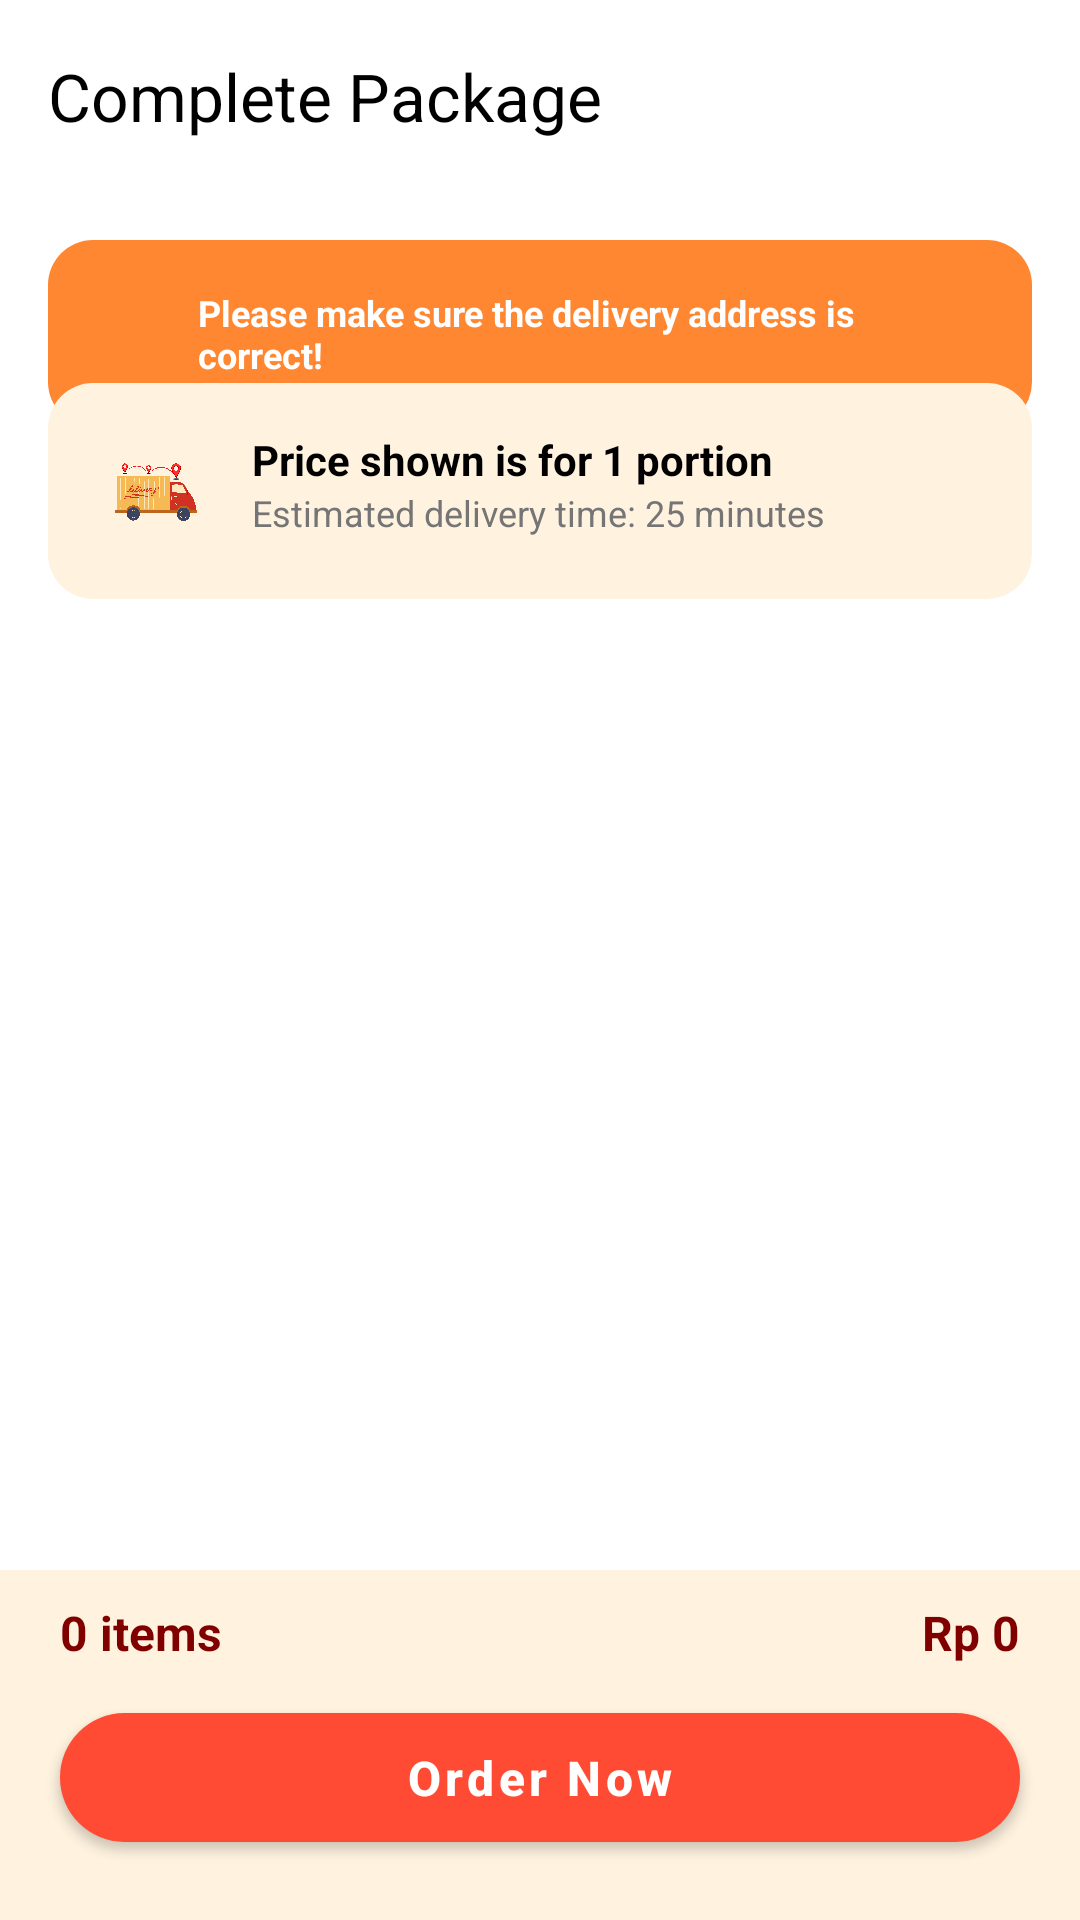

Icon click points for this 1080 x 1920 phone screenshot, format (x,y):
pickup: (156,492)
